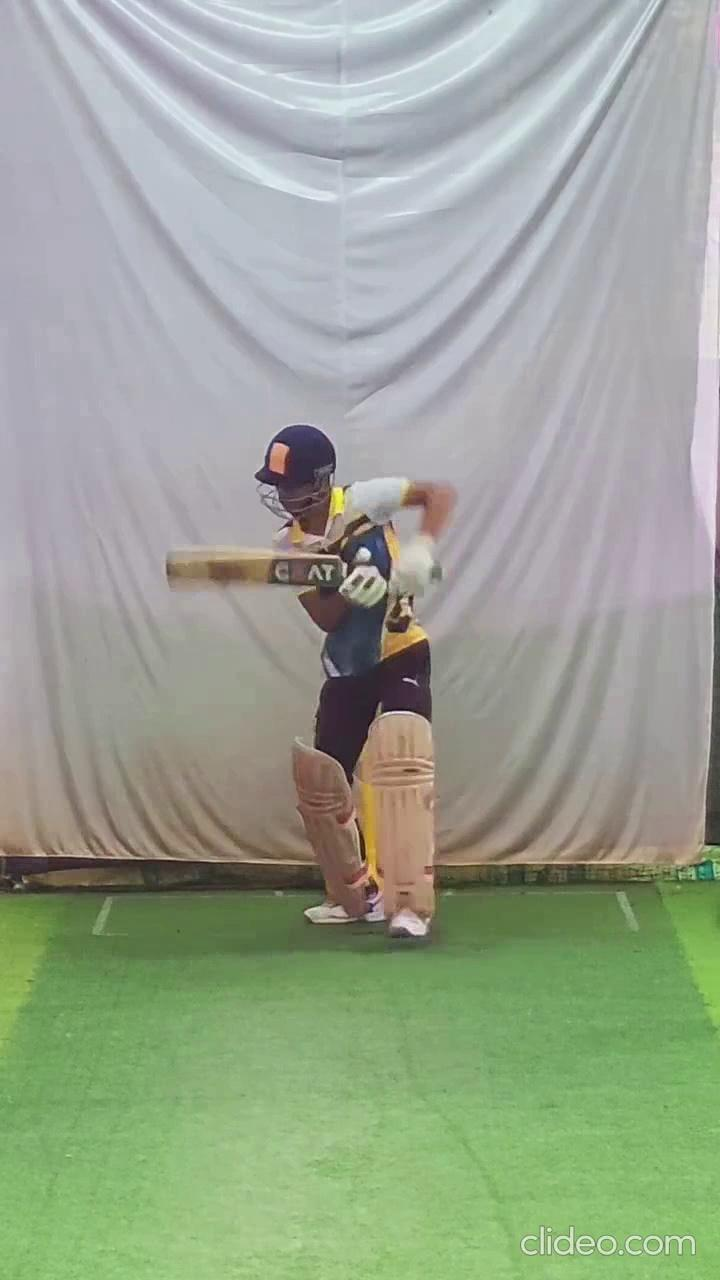bat: (165, 549, 343, 589)
